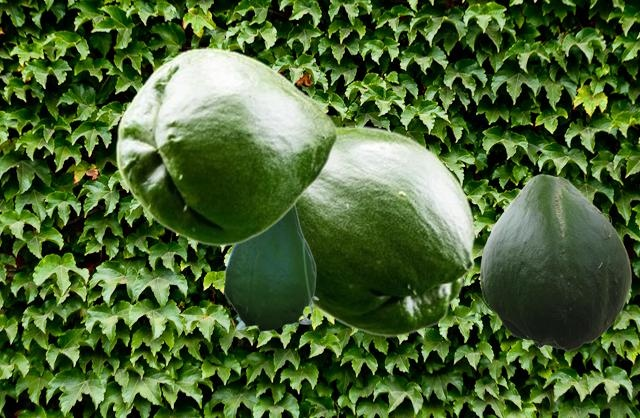sayote: (115, 47, 337, 245), (296, 125, 475, 336), (480, 174, 630, 351), (223, 206, 318, 337)
